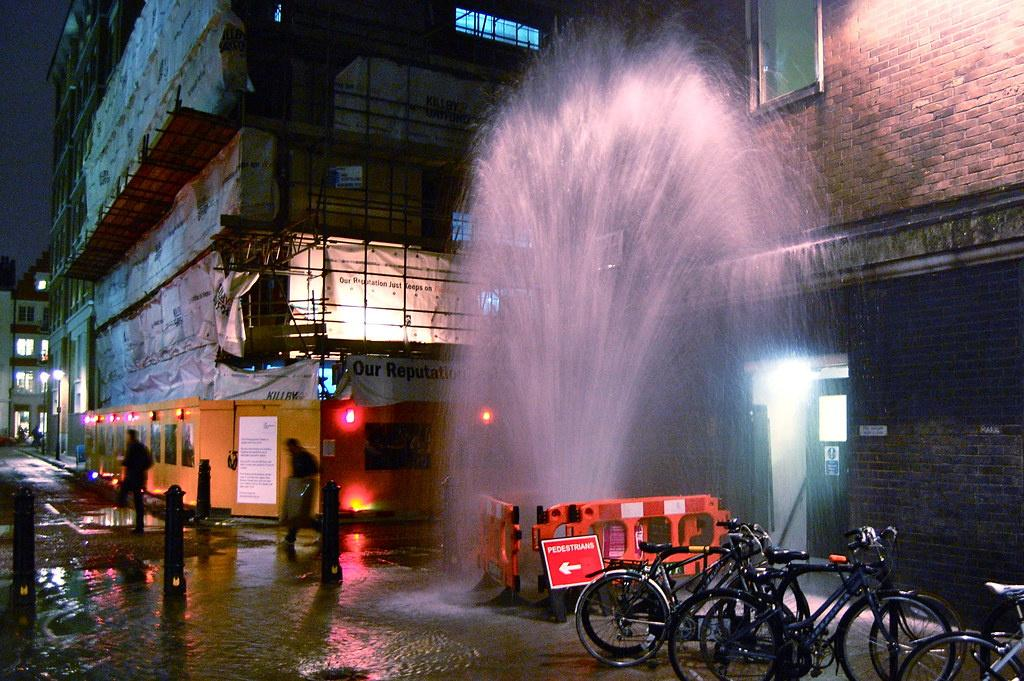pipe burst: (454, 17, 815, 558)
